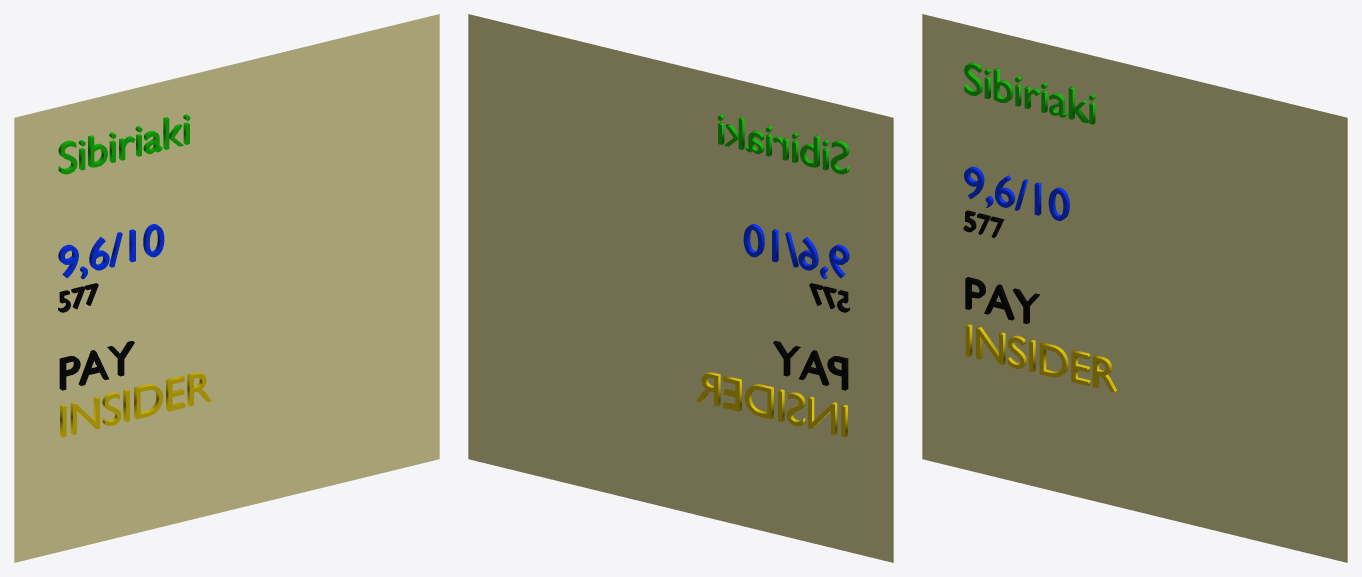
File: sibiriaki.gltf
The picture shows the model from 3 angles, left to right: view 1: azimuth 30°, elevation 25°; view 2: azimuth 150°, elevation 25°; view 3: azimuth 330°, elevation 25°; orthographic projection.
Parts seen in each view (by area): view 1: background, insider, name, mark, pay, reviews; view 2: background, insider, name, mark, pay, reviews; view 3: background, insider, name, mark, pay.
Boxes of the visible parts, x1,y1,x2,y2 form: background: [14, 14, 439, 562]; insider: [60, 372, 211, 437]; name: [58, 114, 190, 174]; mark: [58, 224, 164, 279]; pay: [59, 341, 134, 390]; reviews: [58, 283, 98, 312]; background: [468, 14, 893, 562]; insider: [696, 372, 847, 437]; name: [717, 114, 849, 174]; mark: [743, 224, 849, 279]; pay: [773, 341, 848, 390]; reviews: [809, 283, 849, 312]; background: [922, 14, 1347, 562]; insider: [965, 324, 1117, 392]; name: [964, 62, 1095, 124]; mark: [964, 166, 1069, 220]; pay: [965, 277, 1039, 323].
Size of the model in its own units: 2 by 2 by 0.04.
